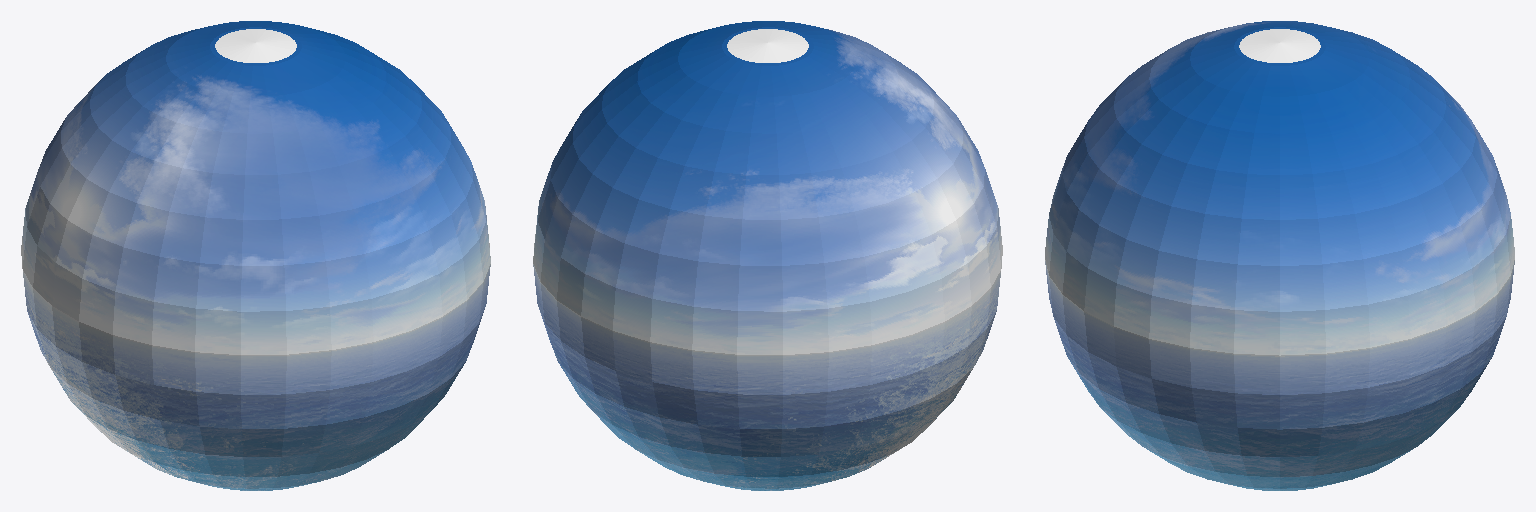
The picture shows the model from 3 angles: view 1: azimuth 30°, elevation 25°; view 2: azimuth 150°, elevation 25°; view 3: azimuth 270°, elevation 25°; orthographic projection.
Parts seen in each view (by area): view 1: 球; view 2: 球; view 3: 球.
Boxes of the visible parts, box(x1,y1,x2,y2) form: 球: box(21, 21, 490, 490); 球: box(533, 21, 1002, 490); 球: box(1045, 21, 1514, 490).
Size of the model in its own units: 2 by 2 by 2.
1 materials, 1 textured.